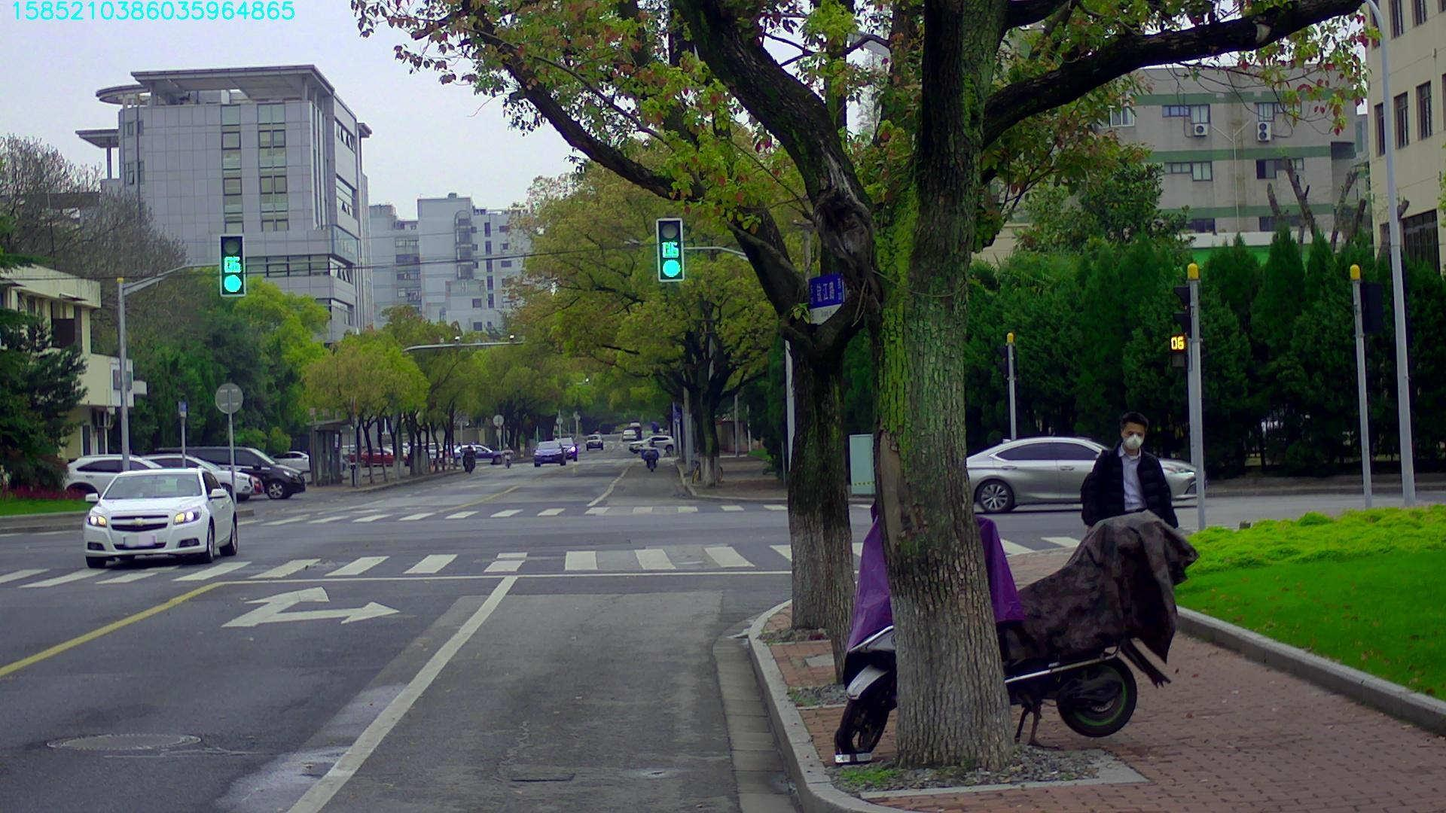green: (657, 218, 682, 280), (219, 234, 244, 295)
